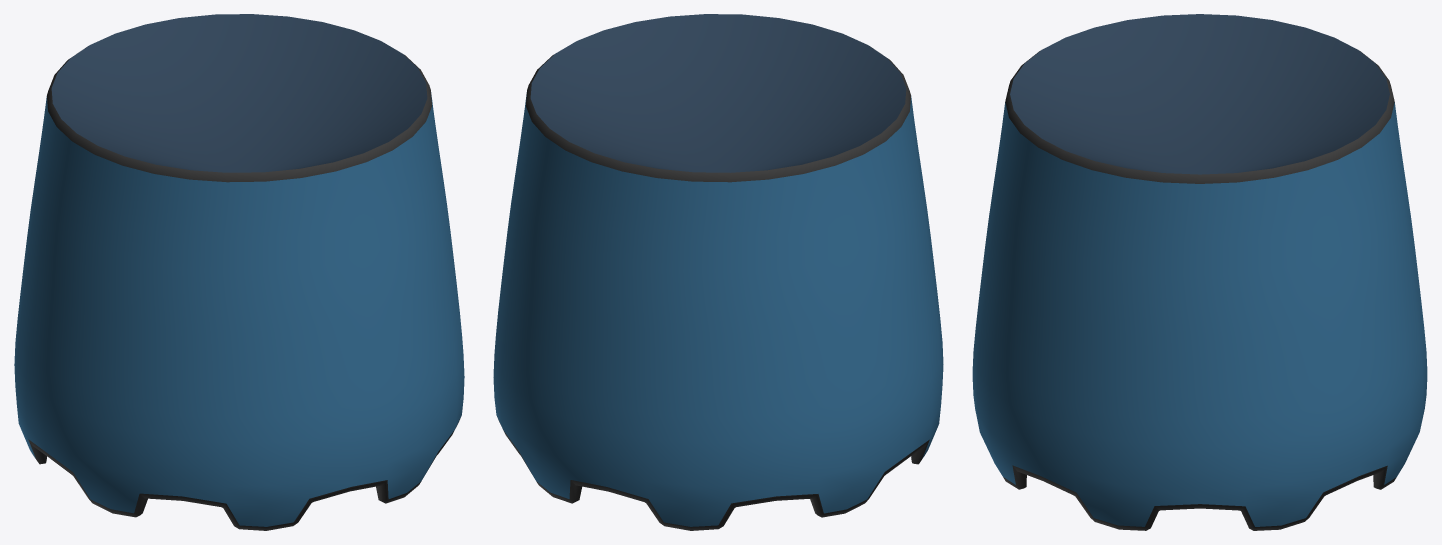
File: robot_body.glb
3 views of the same model, side by side, from view 1: azimuth 30°, elevation 25°; view 2: azimuth 150°, elevation 25°; view 3: azimuth 270°, elevation 25° (orthographic).
Visible parts, largest first — view 1: Body; view 2: Body; view 3: Body.
Boxes of the visible parts, left/top/right/bottom form: Body: left=14, top=14, right=464, bottom=530; Body: left=493, top=14, right=943, bottom=530; Body: left=972, top=14, right=1427, bottom=530.
Bounding box in the file's own units: 0.2436 × 0.2088 × 0.2436.
